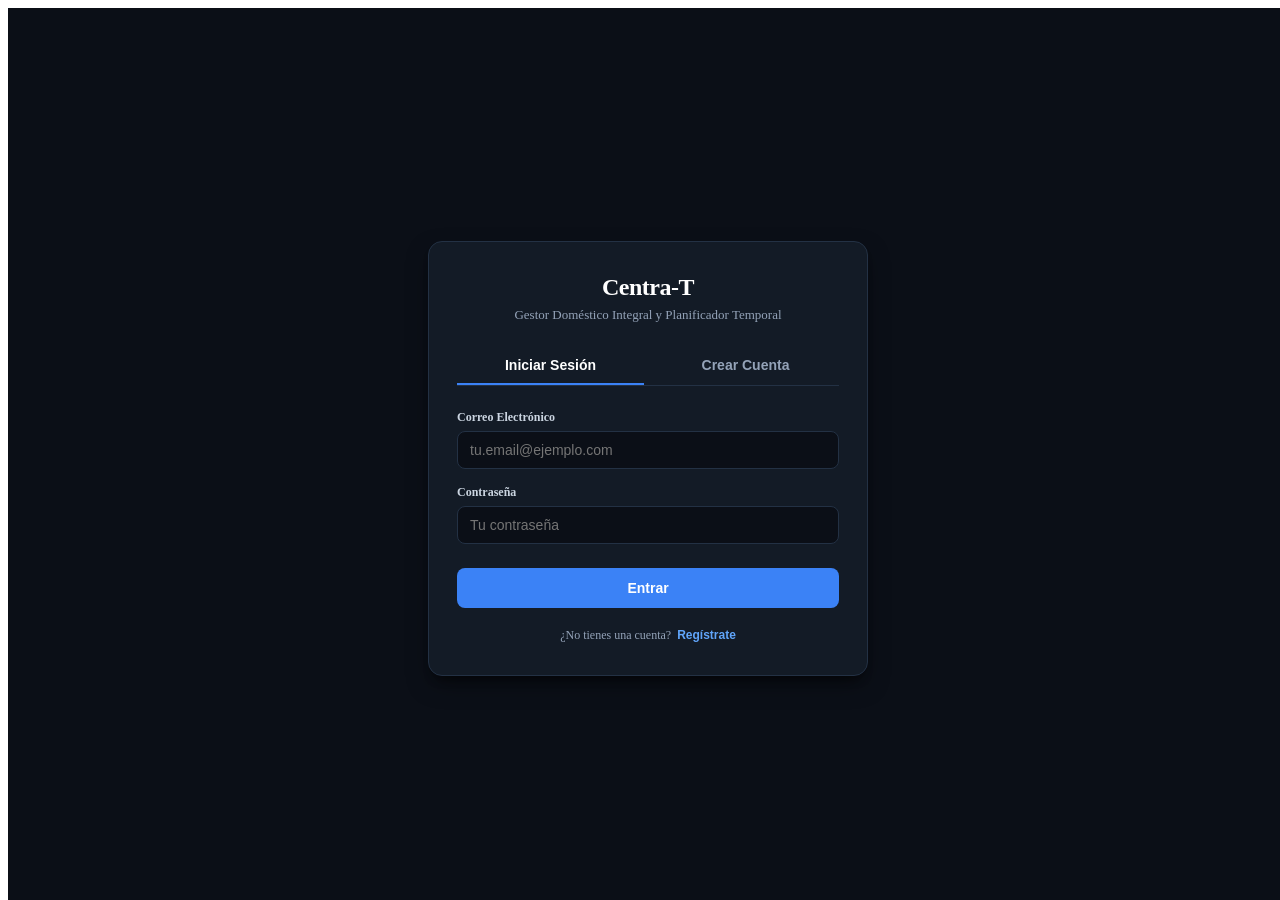
Test: LoginPage Component › debe mostrar banner de alerta ante error 401 (Credenciales incorrectas)
The width and height of the screenshot is (1280, 900).
Type "valido@example.com" into the field labelled "Correo Electrónico".
click(648, 450); type("valido@example.com")  # box [457,430,839,468]
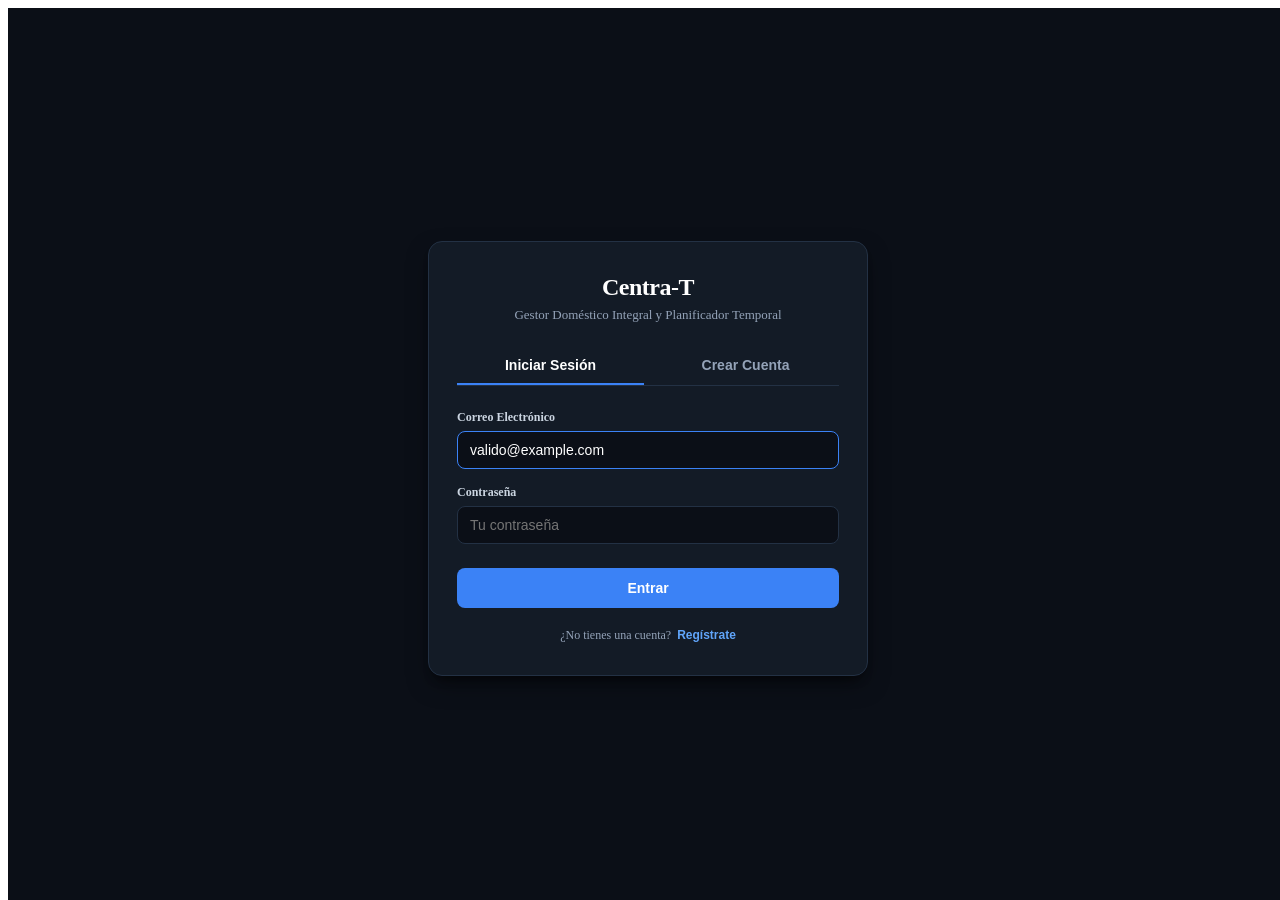
Type "WrongPassword123!" into the password field labelled "Contraseña".
click(648, 524); type("WrongPassword123!")  # box [457,506,839,544]
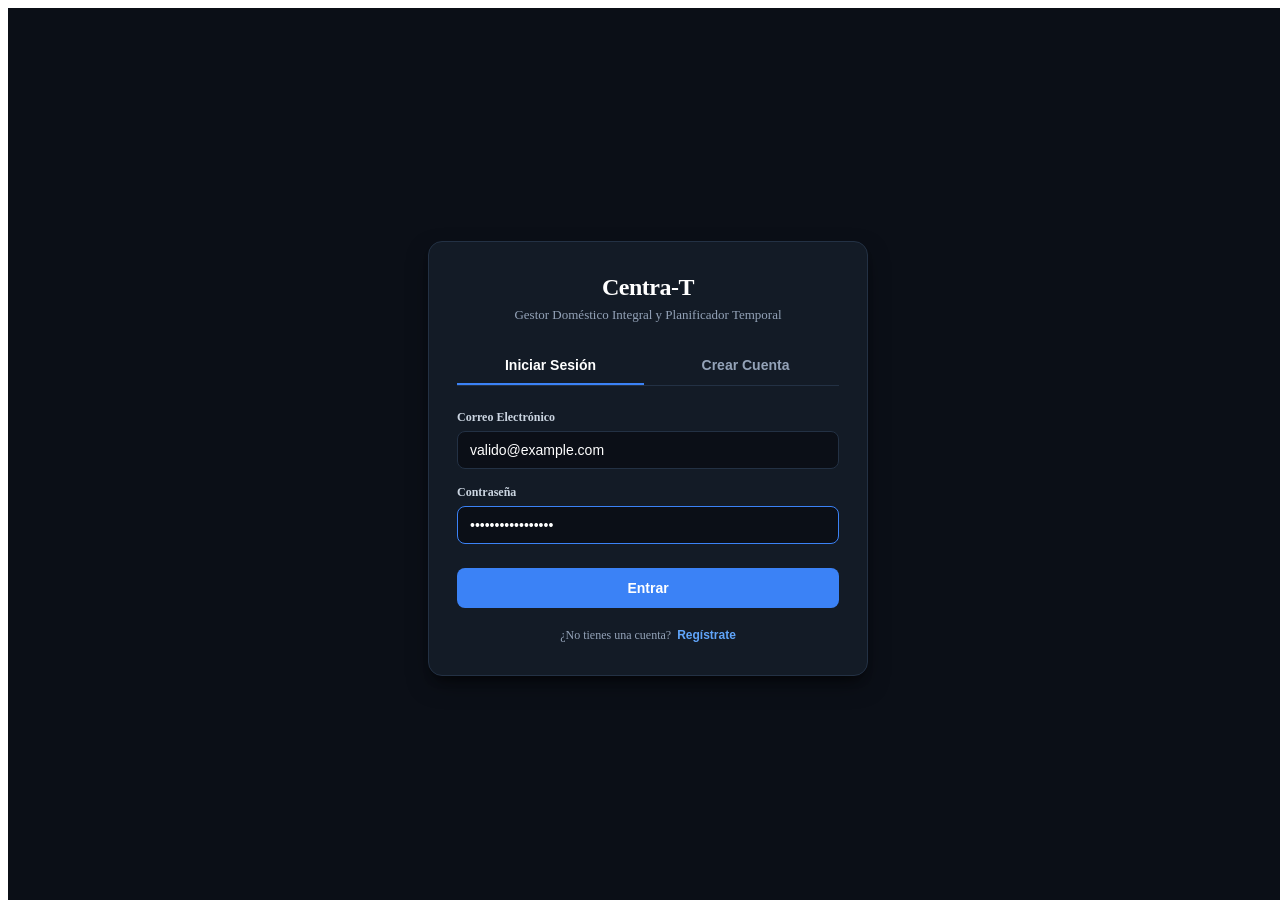
Click the button "Entrar".
click(648, 588)  # box [457,568,839,608]
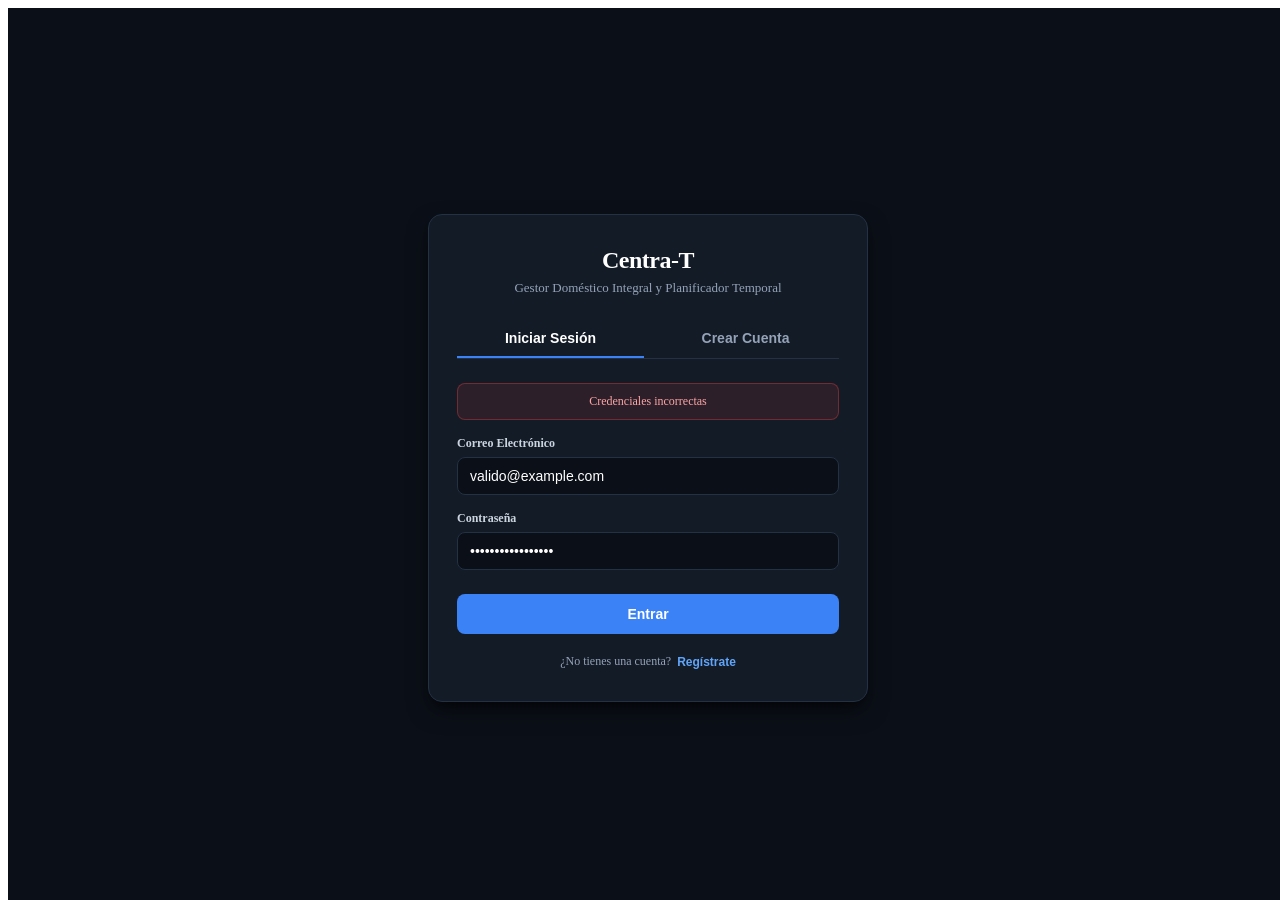
Now the message reads "Credenciales incorrectas", box [589,394,707,408]
